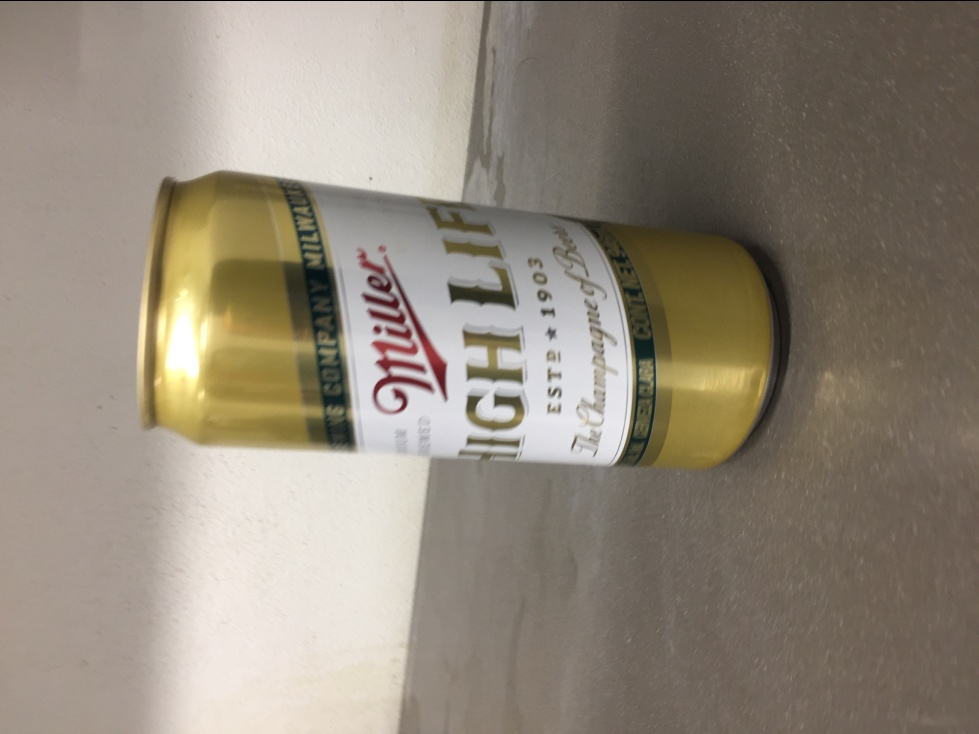miller: (128, 166, 790, 477)
